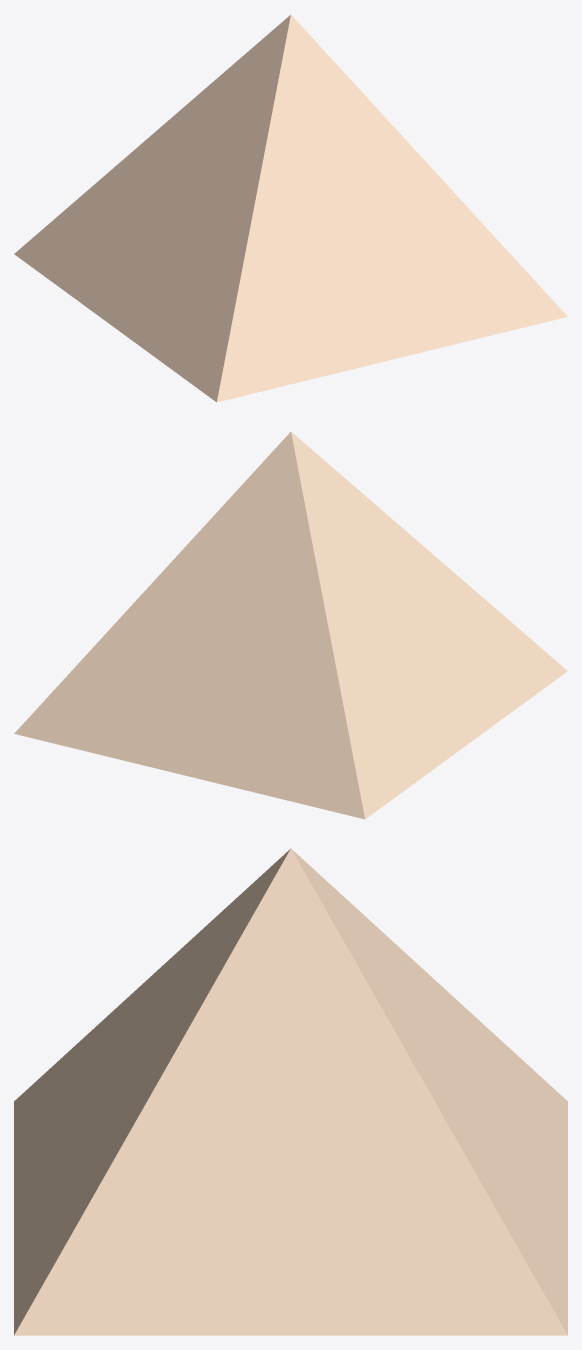
Rendered from Abstract_Castle_Block_TempleTopSmall_Cream_02.fbx.
3 renders of one model, top to bottom at view 1: azimuth 30°, elevation 25°; view 2: azimuth 150°, elevation 25°; view 3: azimuth 270°, elevation 25°, orthographic. The views are drawn at different scales.
Visible parts, largest first — view 1: Model; view 2: Model; view 3: Model.
Part boxes in pixels (box(x1,y1,x2,y2)): Model: box(14, 15, 567, 402); Model: box(14, 432, 567, 819); Model: box(14, 848, 567, 1335).
Bounding box in the file's own units: 756 × 557 × 756.
